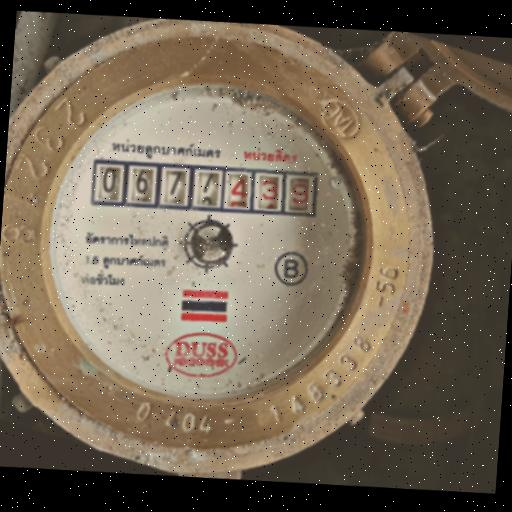0: (99, 168, 120, 200)
3: (258, 175, 279, 210)
4: (228, 174, 249, 210)
6: (131, 169, 154, 203)
7: (165, 171, 186, 204), (199, 173, 219, 206)
9: (288, 179, 310, 210)
border_water_meter_number: (91, 156, 320, 221)
